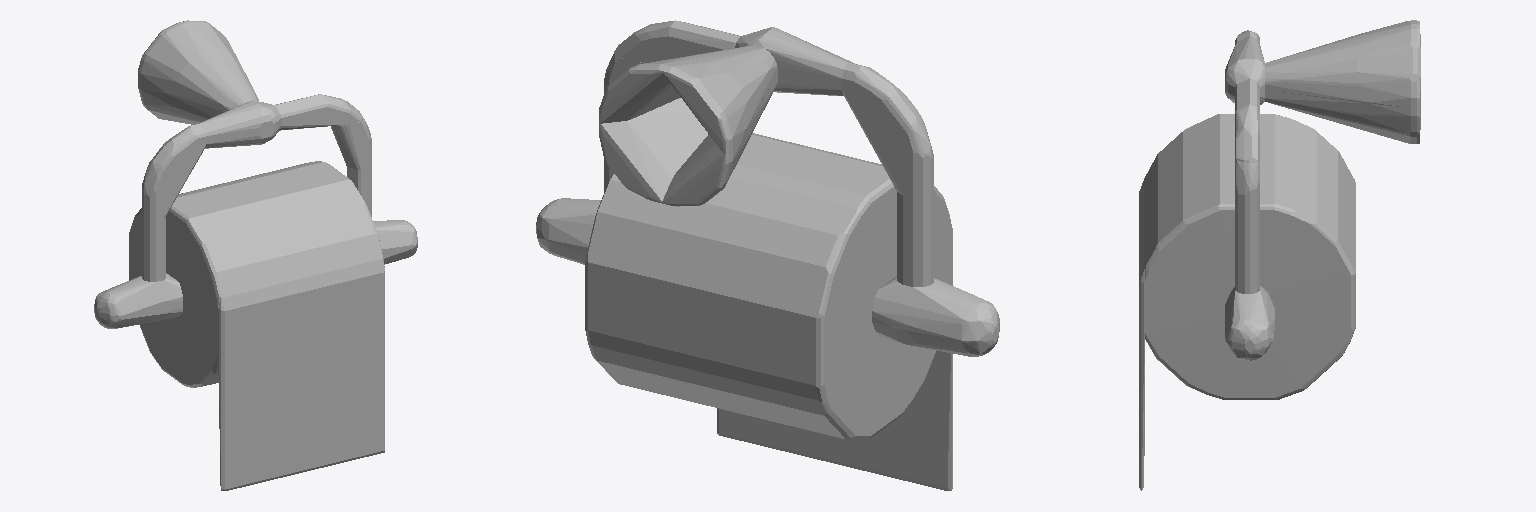
The robot description file, URDF, robot "root":
<robot name="root">
  <link name="body">
    <visual>
      <origin xyz="0 0 0" rpy="0 0 0"/>
      <geometry>
        <mesh filename="coacd_convex_piece_0.obj" scale="1.0000E+00 1.0000E+00 1.0000E+00"/>
      </geometry>
      <material name="">
        <color rgba="7.50E-01 7.50E-01 7.50E-01 1"/>
      </material>
    </visual>
    <collision>
      <origin xyz="0 0 0" rpy="0 0 0"/>
      <geometry>
        <mesh filename="coacd_convex_piece_0.obj" scale="1.0000E+00 1.0000E+00 1.0000E+00"/>
      </geometry>
    </collision>
    <visual>
      <origin xyz="0 0 0" rpy="0 0 0"/>
      <geometry>
        <mesh filename="coacd_convex_piece_1.obj" scale="1.0000E+00 1.0000E+00 1.0000E+00"/>
      </geometry>
      <material name="">
        <color rgba="7.50E-01 7.50E-01 7.50E-01 1"/>
      </material>
    </visual>
    <collision>
      <origin xyz="0 0 0" rpy="0 0 0"/>
      <geometry>
        <mesh filename="coacd_convex_piece_1.obj" scale="1.0000E+00 1.0000E+00 1.0000E+00"/>
      </geometry>
    </collision>
    <visual>
      <origin xyz="0 0 0" rpy="0 0 0"/>
      <geometry>
        <mesh filename="coacd_convex_piece_2.obj" scale="1.0000E+00 1.0000E+00 1.0000E+00"/>
      </geometry>
      <material name="">
        <color rgba="7.50E-01 7.50E-01 7.50E-01 1"/>
      </material>
    </visual>
    <collision>
      <origin xyz="0 0 0" rpy="0 0 0"/>
      <geometry>
        <mesh filename="coacd_convex_piece_2.obj" scale="1.0000E+00 1.0000E+00 1.0000E+00"/>
      </geometry>
    </collision>
    <visual>
      <origin xyz="0 0 0" rpy="0 0 0"/>
      <geometry>
        <mesh filename="coacd_convex_piece_3.obj" scale="1.0000E+00 1.0000E+00 1.0000E+00"/>
      </geometry>
      <material name="">
        <color rgba="7.50E-01 7.50E-01 7.50E-01 1"/>
      </material>
    </visual>
    <collision>
      <origin xyz="0 0 0" rpy="0 0 0"/>
      <geometry>
        <mesh filename="coacd_convex_piece_3.obj" scale="1.0000E+00 1.0000E+00 1.0000E+00"/>
      </geometry>
    </collision>
    <visual>
      <origin xyz="0 0 0" rpy="0 0 0"/>
      <geometry>
        <mesh filename="coacd_convex_piece_4.obj" scale="1.0000E+00 1.0000E+00 1.0000E+00"/>
      </geometry>
      <material name="">
        <color rgba="7.50E-01 7.50E-01 7.50E-01 1"/>
      </material>
    </visual>
    <collision>
      <origin xyz="0 0 0" rpy="0 0 0"/>
      <geometry>
        <mesh filename="coacd_convex_piece_4.obj" scale="1.0000E+00 1.0000E+00 1.0000E+00"/>
      </geometry>
    </collision>
    <visual>
      <origin xyz="0 0 0" rpy="0 0 0"/>
      <geometry>
        <mesh filename="coacd_convex_piece_5.obj" scale="1.0000E+00 1.0000E+00 1.0000E+00"/>
      </geometry>
      <material name="">
        <color rgba="7.50E-01 7.50E-01 7.50E-01 1"/>
      </material>
    </visual>
    <collision>
      <origin xyz="0 0 0" rpy="0 0 0"/>
      <geometry>
        <mesh filename="coacd_convex_piece_5.obj" scale="1.0000E+00 1.0000E+00 1.0000E+00"/>
      </geometry>
    </collision>
    <visual>
      <origin xyz="0 0 0" rpy="0 0 0"/>
      <geometry>
        <mesh filename="coacd_convex_piece_6.obj" scale="1.0000E+00 1.0000E+00 1.0000E+00"/>
      </geometry>
      <material name="">
        <color rgba="7.50E-01 7.50E-01 7.50E-01 1"/>
      </material>
    </visual>
    <collision>
      <origin xyz="0 0 0" rpy="0 0 0"/>
      <geometry>
        <mesh filename="coacd_convex_piece_6.obj" scale="1.0000E+00 1.0000E+00 1.0000E+00"/>
      </geometry>
    </collision>
    <visual>
      <origin xyz="0 0 0" rpy="0 0 0"/>
      <geometry>
        <mesh filename="coacd_convex_piece_7.obj" scale="1.0000E+00 1.0000E+00 1.0000E+00"/>
      </geometry>
      <material name="">
        <color rgba="7.50E-01 7.50E-01 7.50E-01 1"/>
      </material>
    </visual>
    <collision>
      <origin xyz="0 0 0" rpy="0 0 0"/>
      <geometry>
        <mesh filename="coacd_convex_piece_7.obj" scale="1.0000E+00 1.0000E+00 1.0000E+00"/>
      </geometry>
    </collision>
    <visual>
      <origin xyz="0 0 0" rpy="0 0 0"/>
      <geometry>
        <mesh filename="coacd_convex_piece_8.obj" scale="1.0000E+00 1.0000E+00 1.0000E+00"/>
      </geometry>
      <material name="">
        <color rgba="7.50E-01 7.50E-01 7.50E-01 1"/>
      </material>
    </visual>
    <collision>
      <origin xyz="0 0 0" rpy="0 0 0"/>
      <geometry>
        <mesh filename="coacd_convex_piece_8.obj" scale="1.0000E+00 1.0000E+00 1.0000E+00"/>
      </geometry>
    </collision>
    <visual>
      <origin xyz="0 0 0" rpy="0 0 0"/>
      <geometry>
        <mesh filename="coacd_convex_piece_9.obj" scale="1.0000E+00 1.0000E+00 1.0000E+00"/>
      </geometry>
      <material name="">
        <color rgba="7.50E-01 7.50E-01 7.50E-01 1"/>
      </material>
    </visual>
    <collision>
      <origin xyz="0 0 0" rpy="0 0 0"/>
      <geometry>
        <mesh filename="coacd_convex_piece_9.obj" scale="1.0000E+00 1.0000E+00 1.0000E+00"/>
      </geometry>
    </collision>
    <visual>
      <origin xyz="0 0 0" rpy="0 0 0"/>
      <geometry>
        <mesh filename="coacd_convex_piece_10.obj" scale="1.0000E+00 1.0000E+00 1.0000E+00"/>
      </geometry>
      <material name="">
        <color rgba="7.50E-01 7.50E-01 7.50E-01 1"/>
      </material>
    </visual>
    <collision>
      <origin xyz="0 0 0" rpy="0 0 0"/>
      <geometry>
        <mesh filename="coacd_convex_piece_10.obj" scale="1.0000E+00 1.0000E+00 1.0000E+00"/>
      </geometry>
    </collision>
    <visual>
      <origin xyz="0 0 0" rpy="0 0 0"/>
      <geometry>
        <mesh filename="coacd_convex_piece_11.obj" scale="1.0000E+00 1.0000E+00 1.0000E+00"/>
      </geometry>
      <material name="">
        <color rgba="7.50E-01 7.50E-01 7.50E-01 1"/>
      </material>
    </visual>
    <collision>
      <origin xyz="0 0 0" rpy="0 0 0"/>
      <geometry>
        <mesh filename="coacd_convex_piece_11.obj" scale="1.0000E+00 1.0000E+00 1.0000E+00"/>
      </geometry>
    </collision>
    <visual>
      <origin xyz="0 0 0" rpy="0 0 0"/>
      <geometry>
        <mesh filename="coacd_convex_piece_12.obj" scale="1.0000E+00 1.0000E+00 1.0000E+00"/>
      </geometry>
      <material name="">
        <color rgba="7.50E-01 7.50E-01 7.50E-01 1"/>
      </material>
    </visual>
    <collision>
      <origin xyz="0 0 0" rpy="0 0 0"/>
      <geometry>
        <mesh filename="coacd_convex_piece_12.obj" scale="1.0000E+00 1.0000E+00 1.0000E+00"/>
      </geometry>
    </collision>
    <visual>
      <origin xyz="0 0 0" rpy="0 0 0"/>
      <geometry>
        <mesh filename="coacd_convex_piece_13.obj" scale="1.0000E+00 1.0000E+00 1.0000E+00"/>
      </geometry>
      <material name="">
        <color rgba="7.50E-01 7.50E-01 7.50E-01 1"/>
      </material>
    </visual>
    <collision>
      <origin xyz="0 0 0" rpy="0 0 0"/>
      <geometry>
        <mesh filename="coacd_convex_piece_13.obj" scale="1.0000E+00 1.0000E+00 1.0000E+00"/>
      </geometry>
    </collision>
  </link>
</robot>

--- Render facts (derived) ---
3 views of the same robot in one strip: view 1: azimuth 30°, elevation 25°; view 2: azimuth 150°, elevation 25°; view 3: azimuth 270°, elevation 25° (orthographic).
Model root with 1 links and 0 joints (none), rooted at body, posed every joint at zero.
Links seen in each view (by area): view 1: body; view 2: body; view 3: body.
Link boxes in pixels (x1,y1,x2,y2): body: (94, 20, 417, 490); body: (536, 20, 999, 490); body: (1139, 20, 1420, 490).
Size in the robot's own frame: 1.43 by 0.949 by 1.56 metres.
14 mesh visuals loaded from 14 distinct referenced files (14 OBJ).
